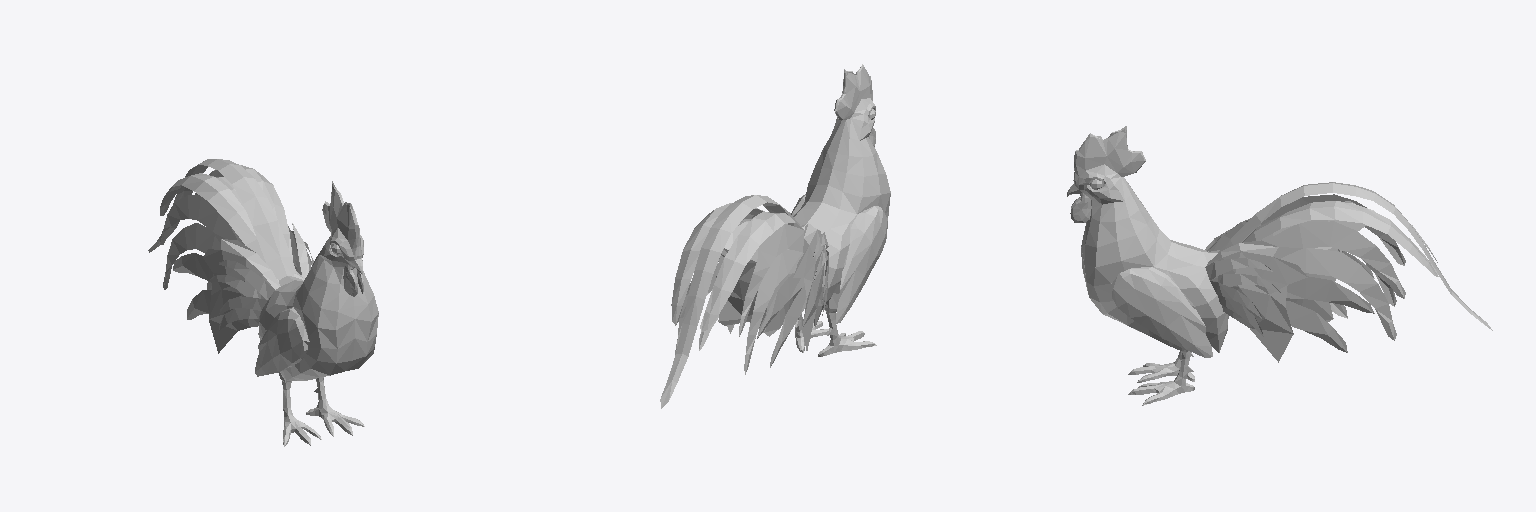
The model's file is gallo.obj.
3 renders of one model, left to right at view 1: azimuth 30°, elevation 25°; view 2: azimuth 150°, elevation 25°; view 3: azimuth 270°, elevation 25°, orthographic.
Parts seen in each view (by area): view 1: rooster_ground1; view 2: rooster_ground1; view 3: rooster_ground1.
Boxes of the visible parts, x1=… form: rooster_ground1: x1=148, y1=159, x2=378, y2=446; rooster_ground1: x1=660, y1=64, x2=890, y2=408; rooster_ground1: x1=1067, y1=126, x2=1492, y2=405.
Size of the model in its own units: 0.9176 by 2.47 by 3.65.